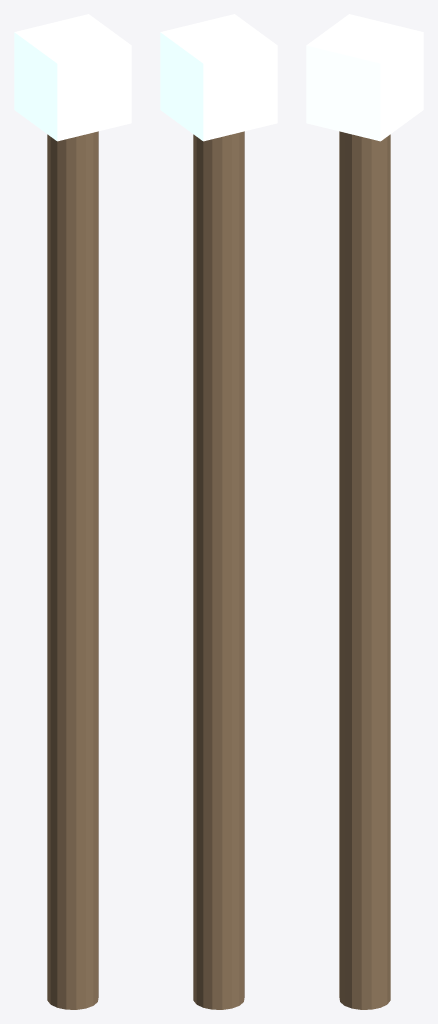
File: wand.glb
3 renders of one model, left to right at view 1: azimuth 30°, elevation 25°; view 2: azimuth 210°, elevation 25°; view 3: azimuth 330°, elevation 25°, orthographic.
Visible parts, largest first — view 1: wand0, wand1; view 2: wand0, wand1; view 3: wand0, wand1.
Boxes of the visible parts, bbox=[...] form: wand0: bbox=[47, 131, 98, 1009]; wand1: bbox=[14, 14, 131, 141]; wand0: bbox=[193, 131, 244, 1009]; wand1: bbox=[160, 14, 277, 141]; wand0: bbox=[339, 131, 390, 1009]; wand1: bbox=[306, 14, 423, 141].
Bounding box in the file's own units: 0.03 × 0.37 × 0.03.
